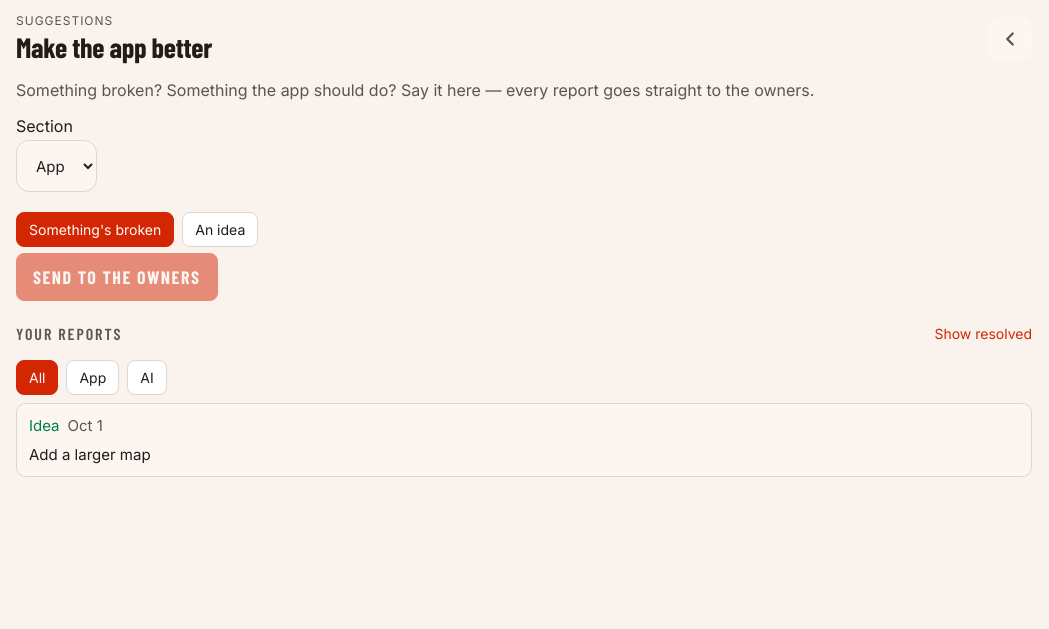
it: App Issues AI section › shows the reporter the current status and verification note
Step 1. Click the button "Show resolved" → (983, 334), box left=934, top=317, right=1032, bottom=350
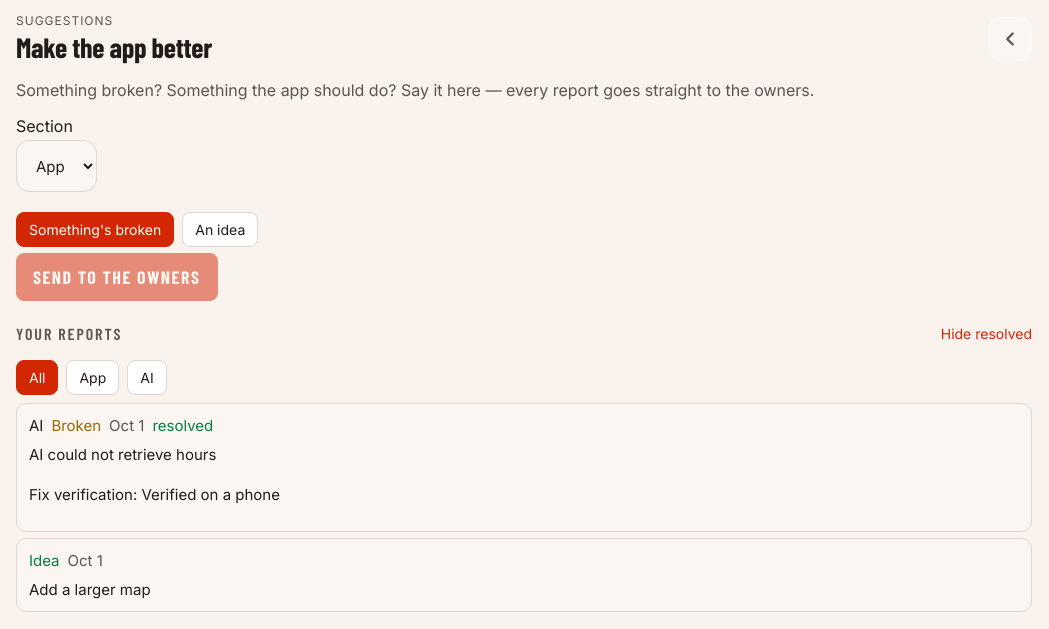
Expected: the text "resolved" is shown, left=941, top=317, right=1032, bottom=350
Expected: the text "AI could not retrieve hours" is shown, left=29, top=445, right=216, bottom=464
Expected: the text "Verified on a phone" is shown, left=142, top=485, right=280, bottom=504
